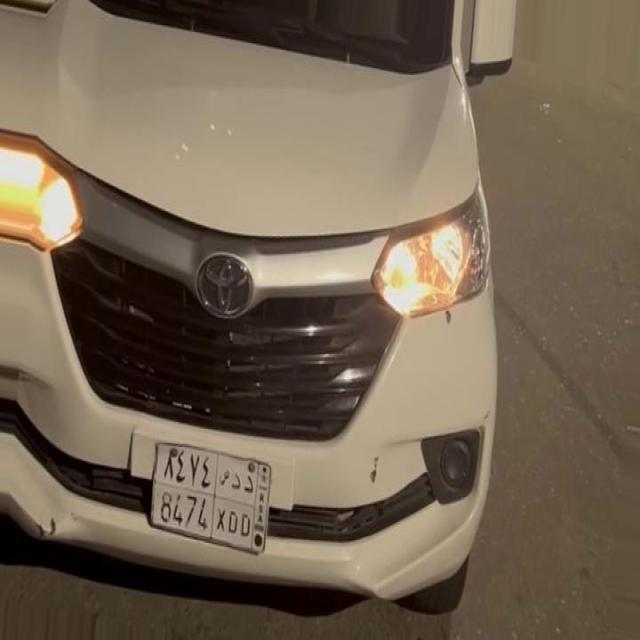Car-plate: (143, 415, 290, 573)
